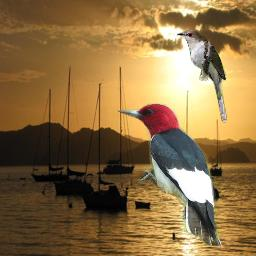Cuckoo: (176, 29, 227, 123)
Woodpecker: (116, 103, 225, 246)
